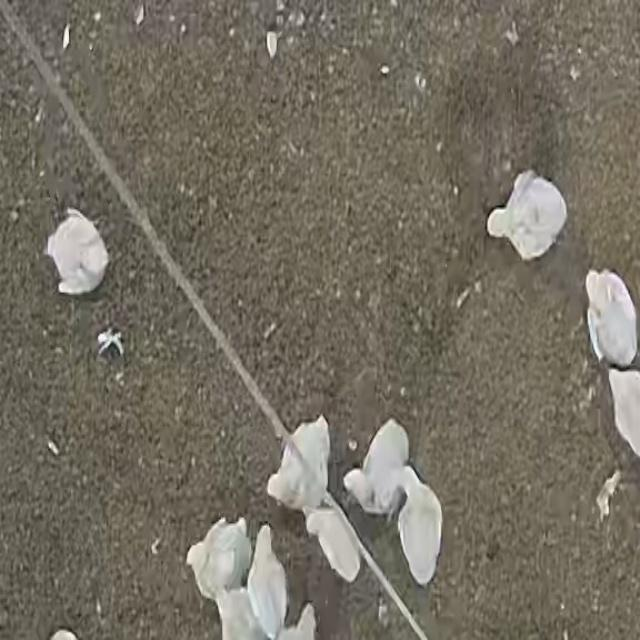chicken: (486, 170, 568, 260), (391, 462, 448, 585), (343, 419, 411, 517), (266, 416, 333, 512), (180, 512, 254, 594), (44, 208, 108, 301), (245, 524, 295, 634), (584, 270, 639, 368), (302, 506, 364, 579)
